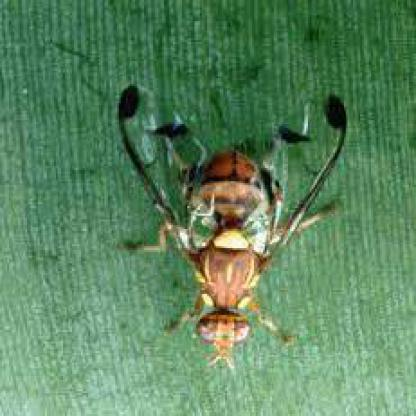fruit fly: (119, 84, 350, 366)
